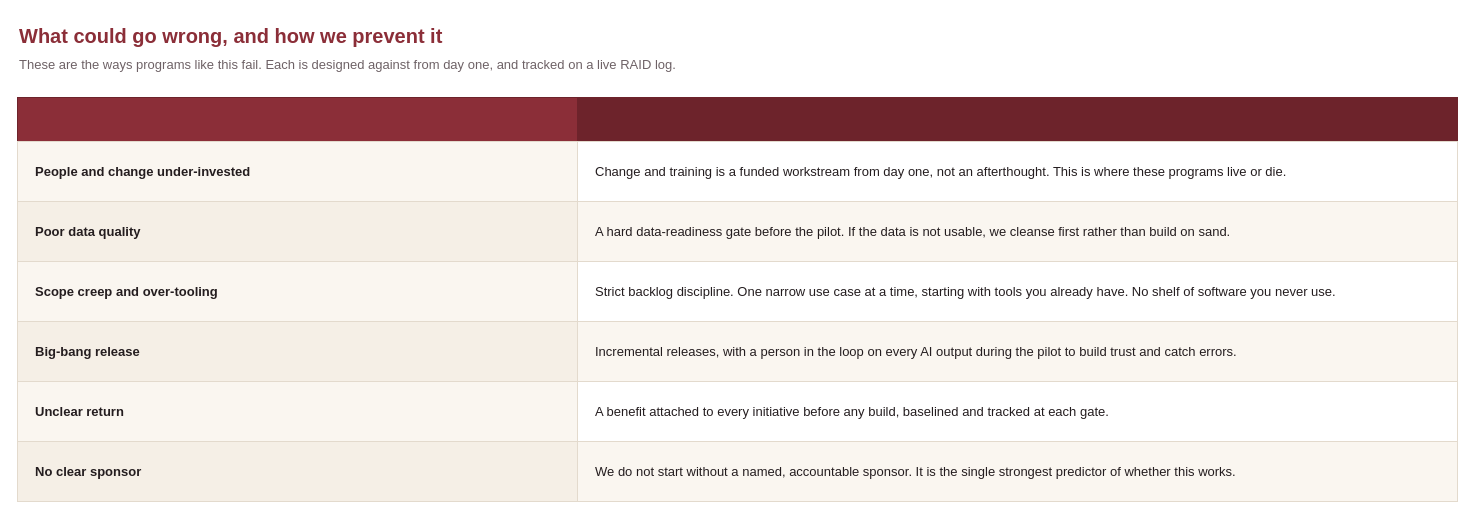
Some shapes in this 1475 by 519 pixel diagram are drawn without their labels. Here are the shapes that lost their labels. From the top down, the box of each, then its label:
(16, 96, 578, 142): The risk
(576, 96, 1458, 142): How we prevent it
